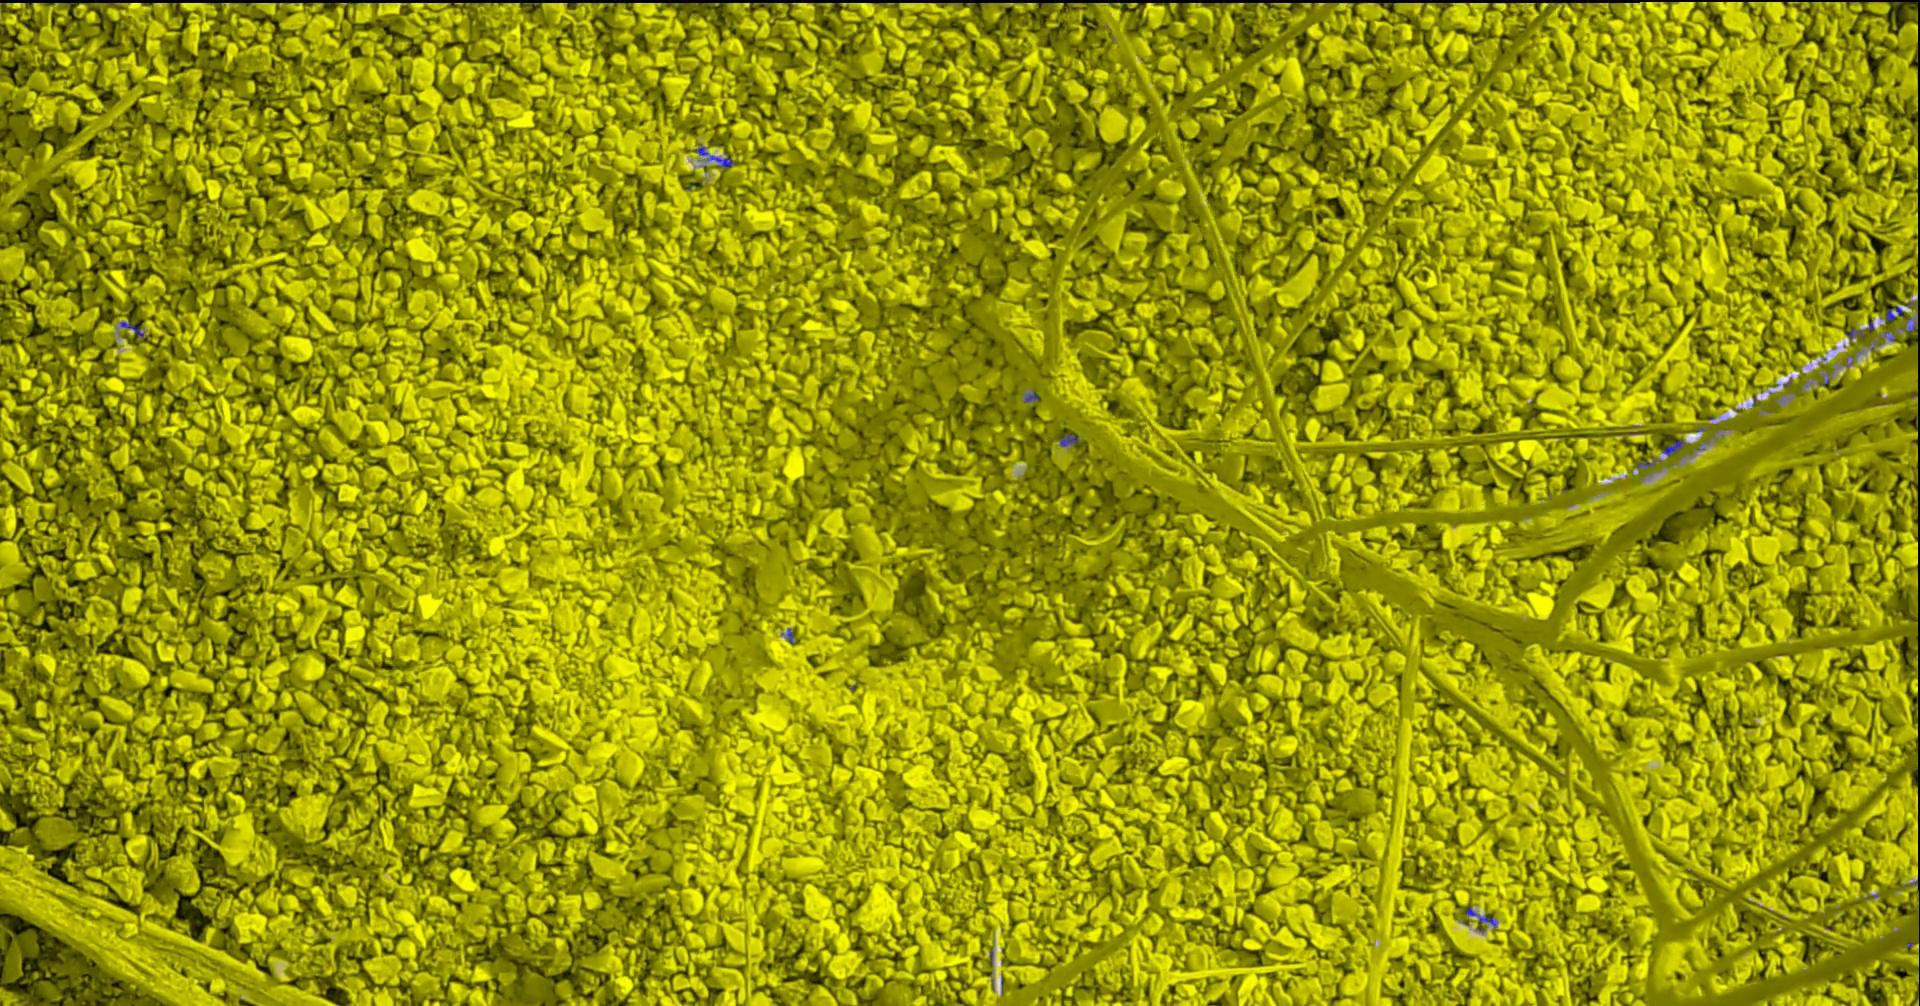ant: (695, 146, 734, 166), (1465, 906, 1495, 927), (119, 321, 143, 337), (1661, 439, 1684, 455), (1884, 306, 1902, 323), (1059, 433, 1078, 446)
